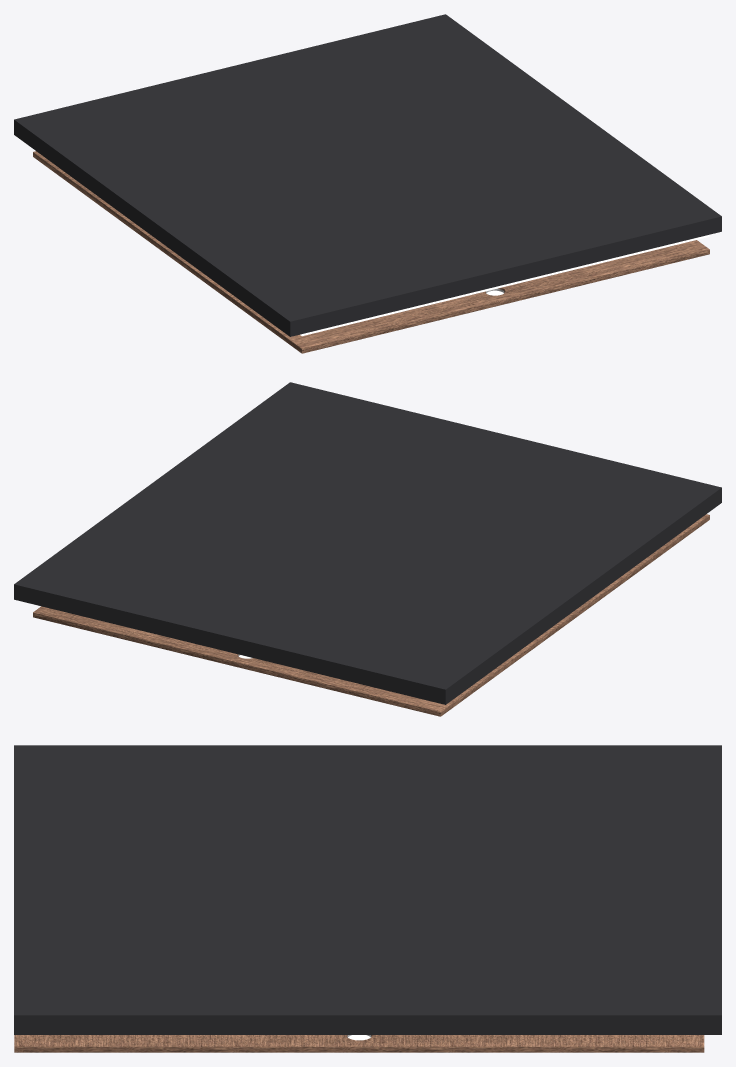
The model's file is ceiling_DD301.glb.
3 renders of one model, top to bottom at view 1: azimuth 30°, elevation 25°; view 2: azimuth 150°, elevation 25°; view 3: azimuth 270°, elevation 25°, orthographic. The views are drawn at different scales.
Visible parts, largest first — view 1: Ceiling_Shell, Ceiling_Plate, Ceiling_Glow; view 2: Ceiling_Shell, Ceiling_Plate; view 3: Ceiling_Shell, Ceiling_Plate.
Boxes of the visible parts, left/top/right/bottom form: Ceiling_Shell: left=14, top=14, right=721, bottom=336; Ceiling_Plate: left=33, top=151, right=709, bottom=353; Ceiling_Glow: left=300, top=235, right=709, bottom=336; Ceiling_Shell: left=14, top=382, right=721, bottom=704; Ceiling_Plate: left=33, top=514, right=709, bottom=716; Ceiling_Shell: left=14, top=745, right=721, bottom=1034; Ceiling_Plate: left=14, top=1035, right=704, bottom=1052.
Size of the model in its own units: 1.48 by 0.119 by 1.64.
6 materials, 1 textured.
